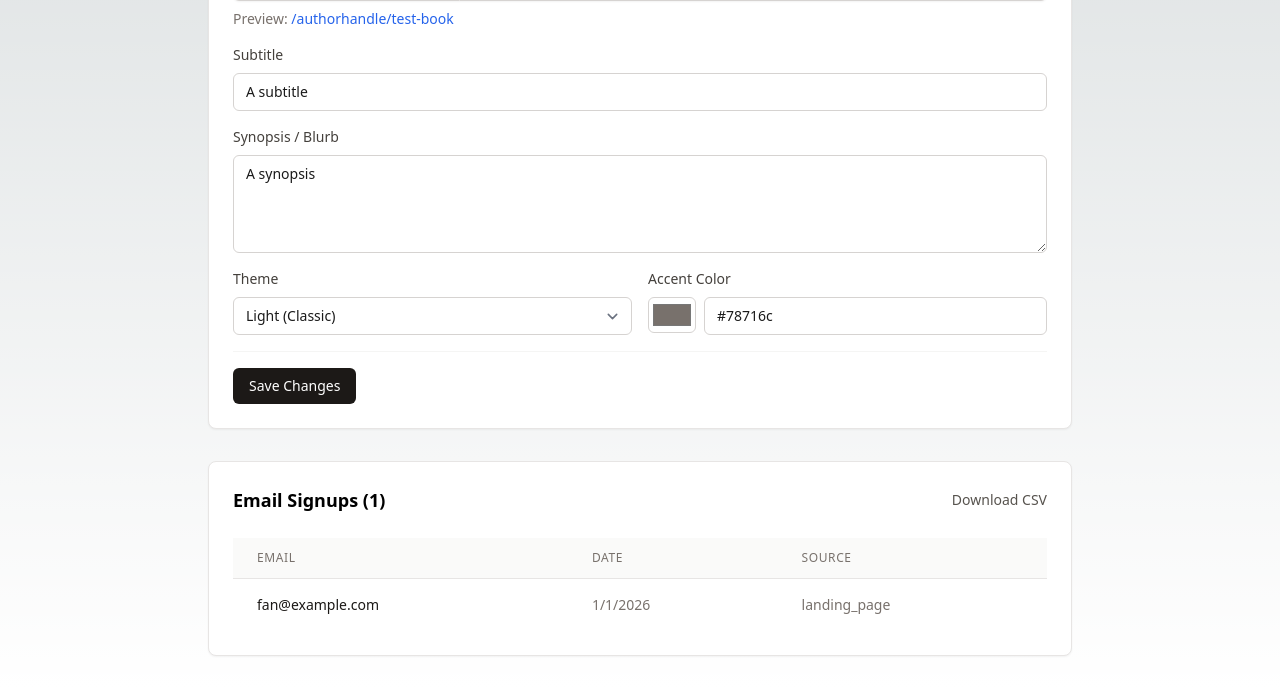
MarketingDashboard › handles save errors
(page scrolled)
Click the button "Save Changes".
click(295, 386)  # box [233, 368, 356, 404]
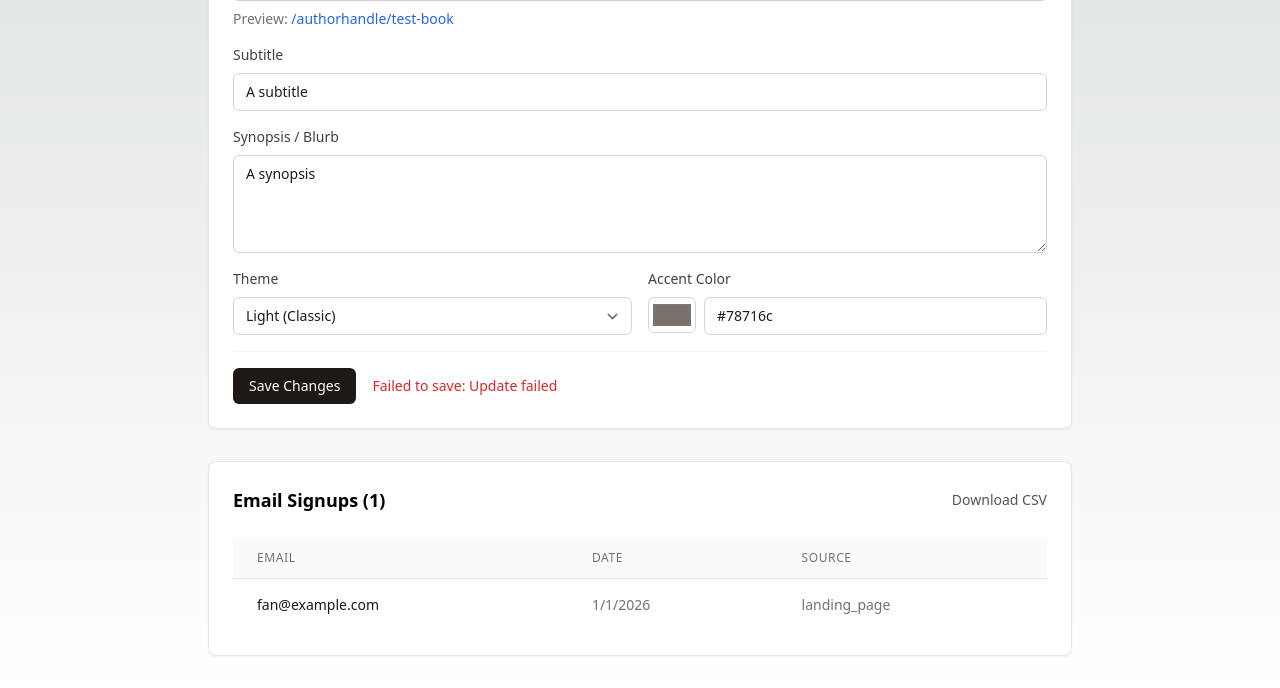
expect the text "Failed to save: Update failed" is shown: met, box [372, 376, 557, 395]
